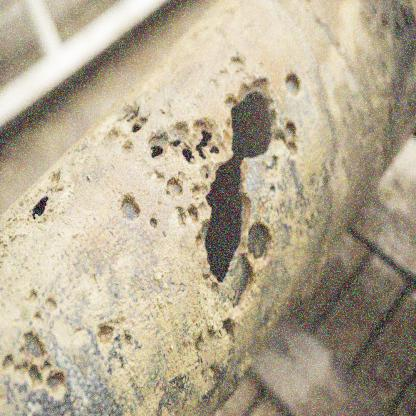burst: (182, 74, 292, 290)
